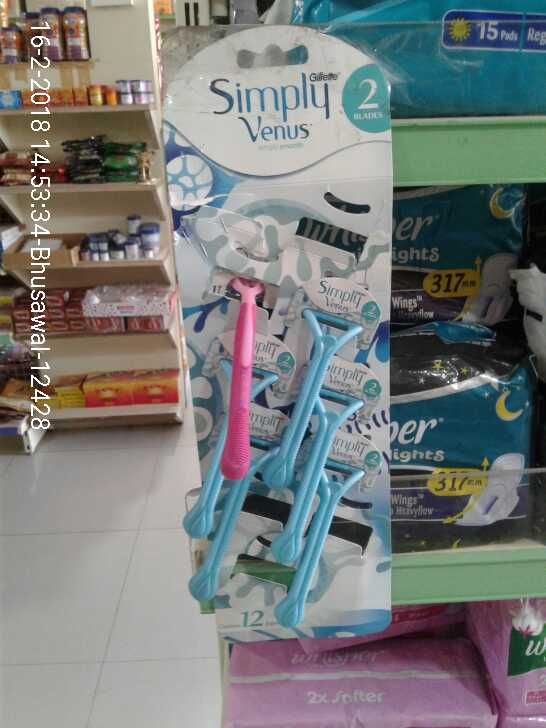beauty: (175, 204, 376, 627)
